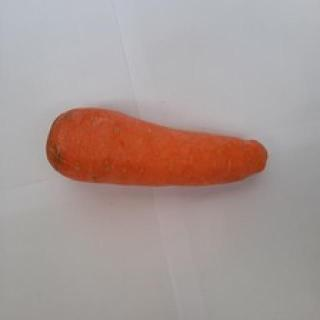carrot: (47, 106, 267, 186)
